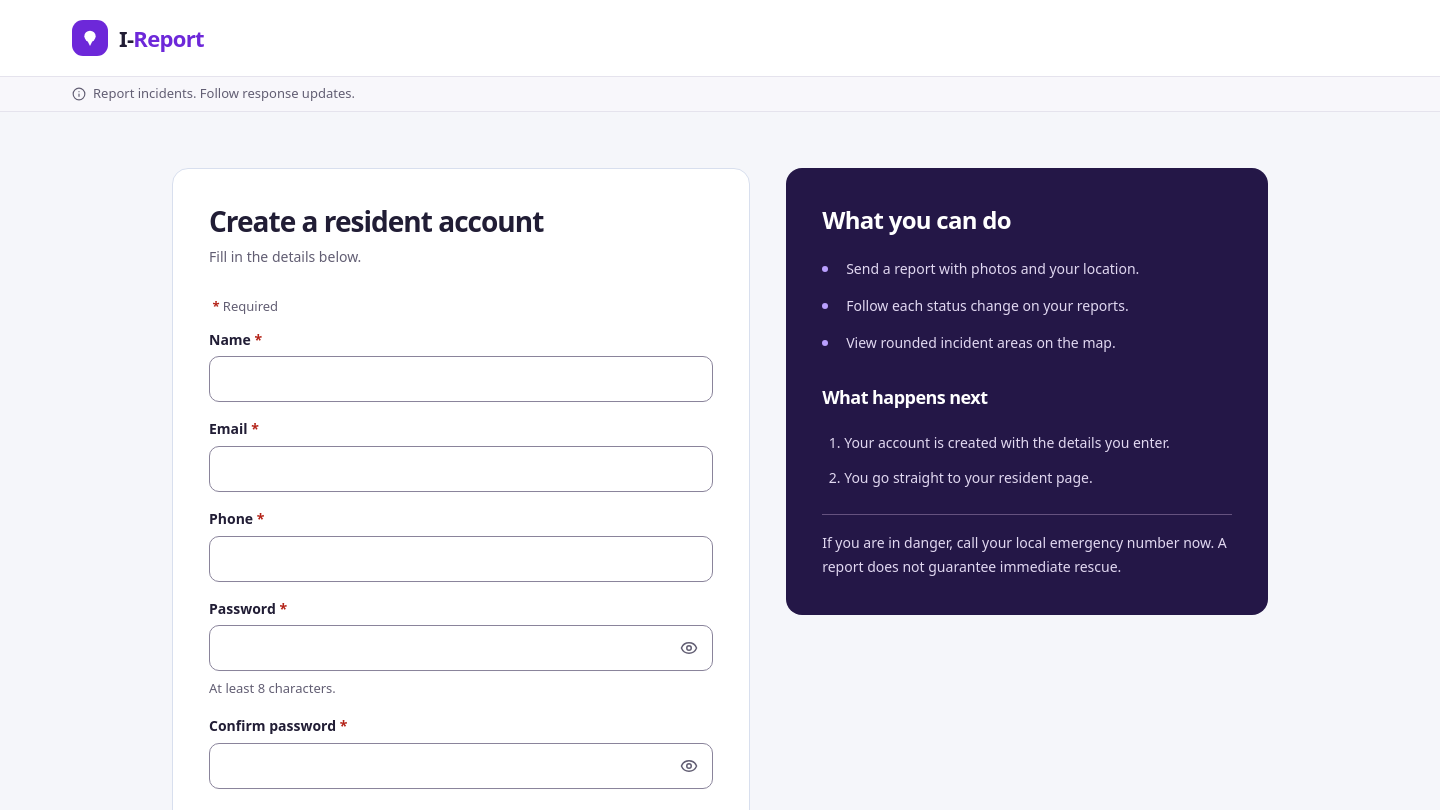
Scenario: ResidentSignUp › shows the failure message and the hotline when account creation fails
Type "Ana Cruz" into the field labelled "Name" at (461, 379), box [209,356,713,402]
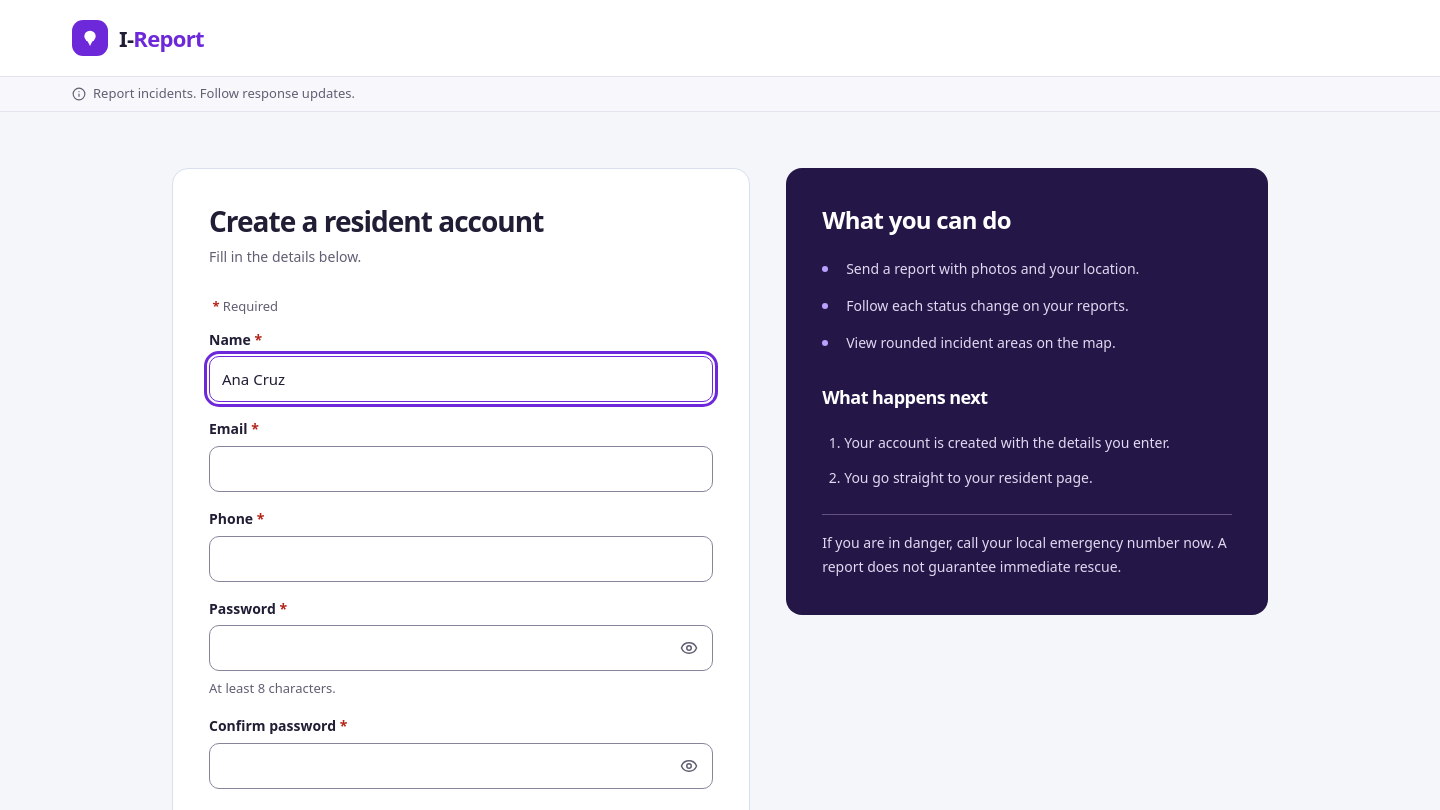
Type "ana@example.com" into the field labelled "Email" at (461, 469), box [209,446,713,492]
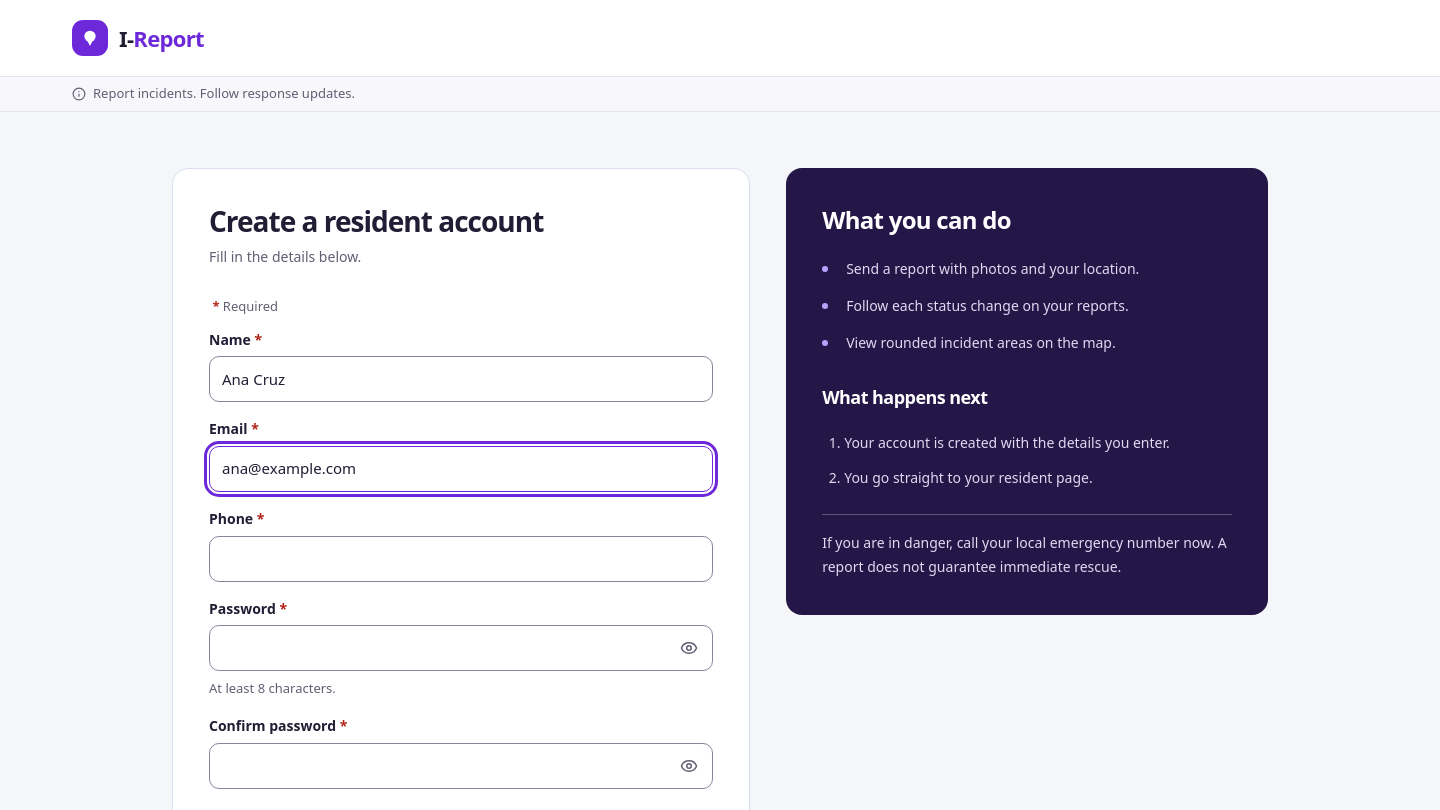
Type "0917 000 0001" into the field labelled "Phone" at (461, 559), box [209,536,713,582]
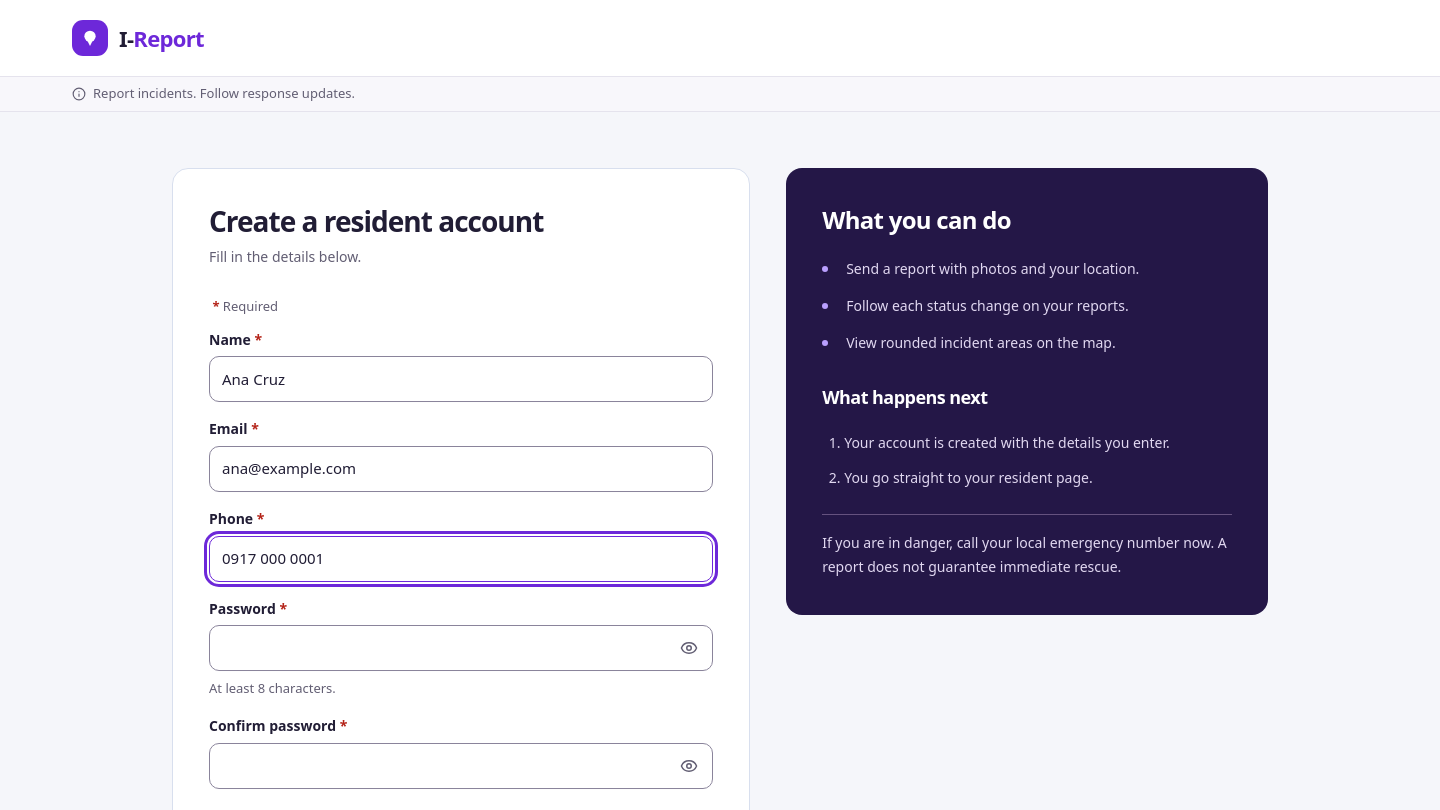
Type "correct-horse-1" into the password field labelled "Password" at (461, 648), box [209,625,713,671]
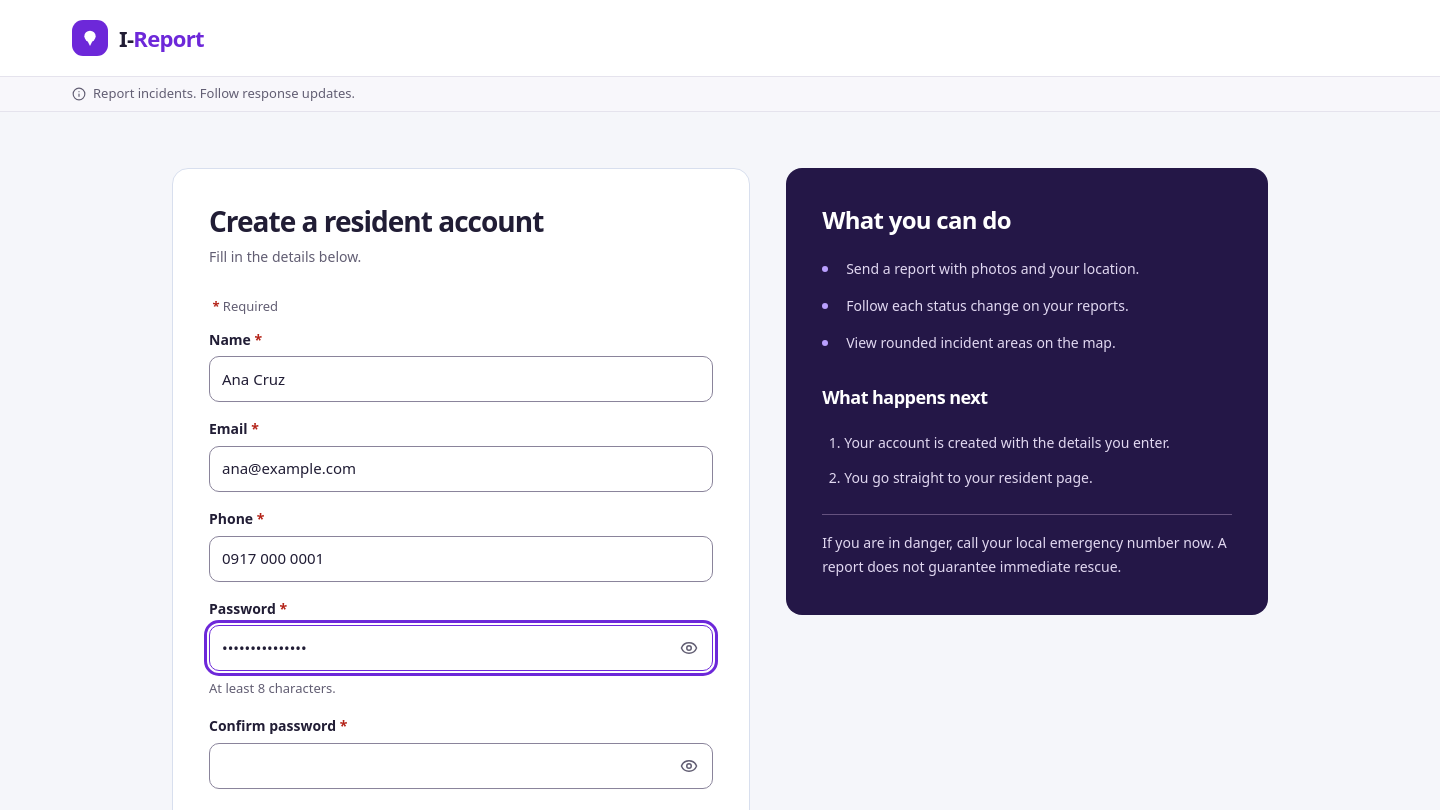
Type "correct-horse-1" into the password field labelled "Confirm password" at (461, 766), box [209,743,713,789]
(page scrolled)
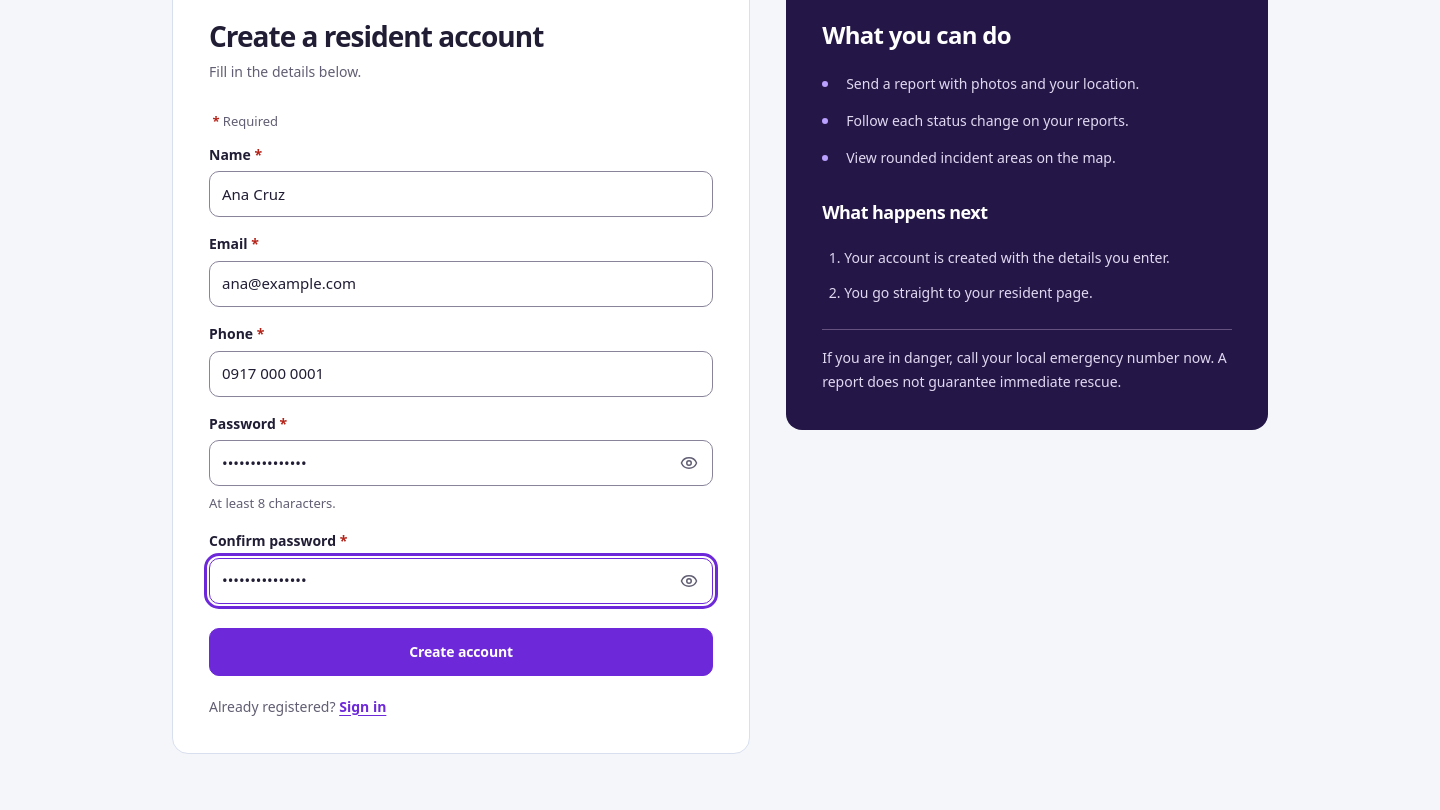
Click the button "Create account" at (461, 652), box [209,628,713,676]
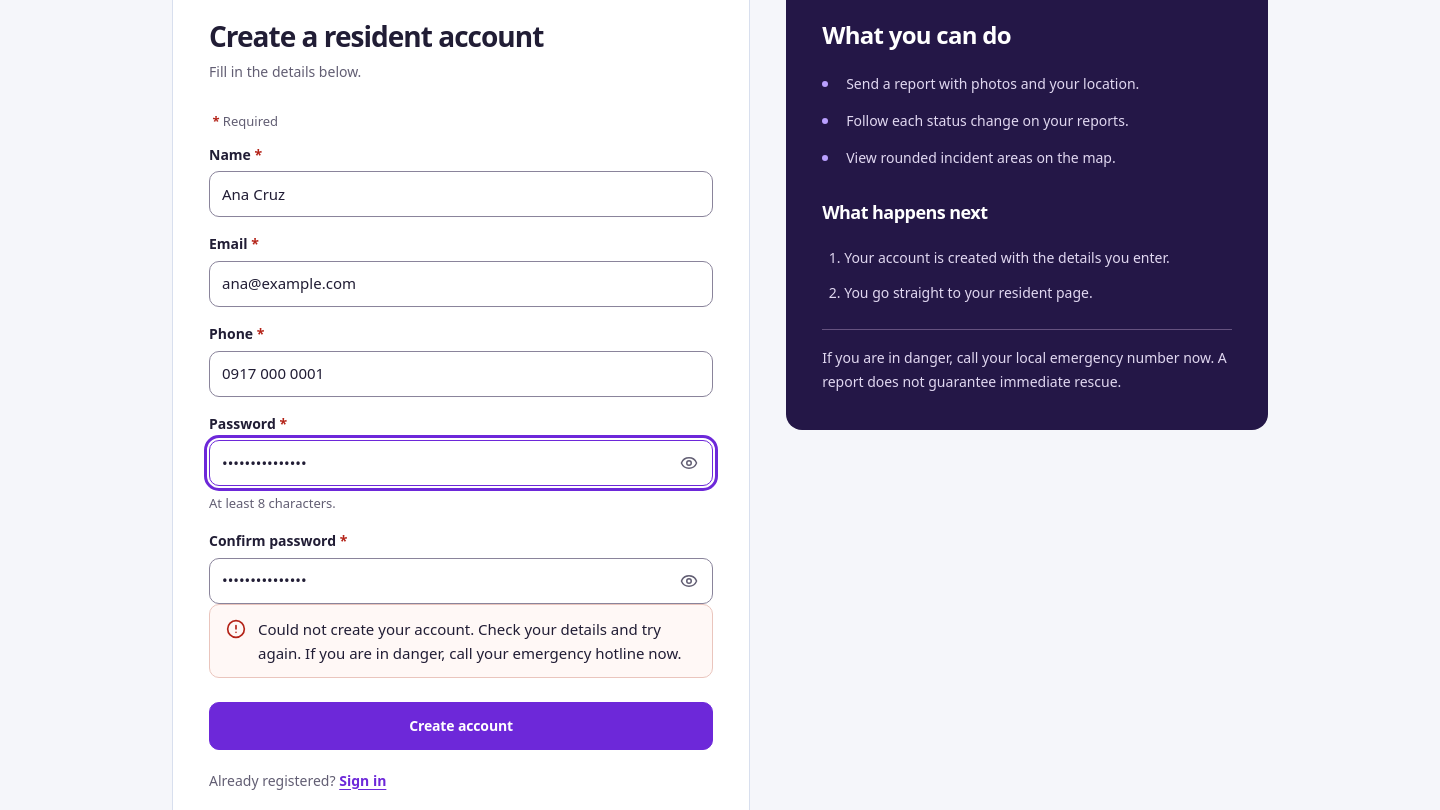
Expected: the text "emergency hotline" is shown, [258,619,682,663]
